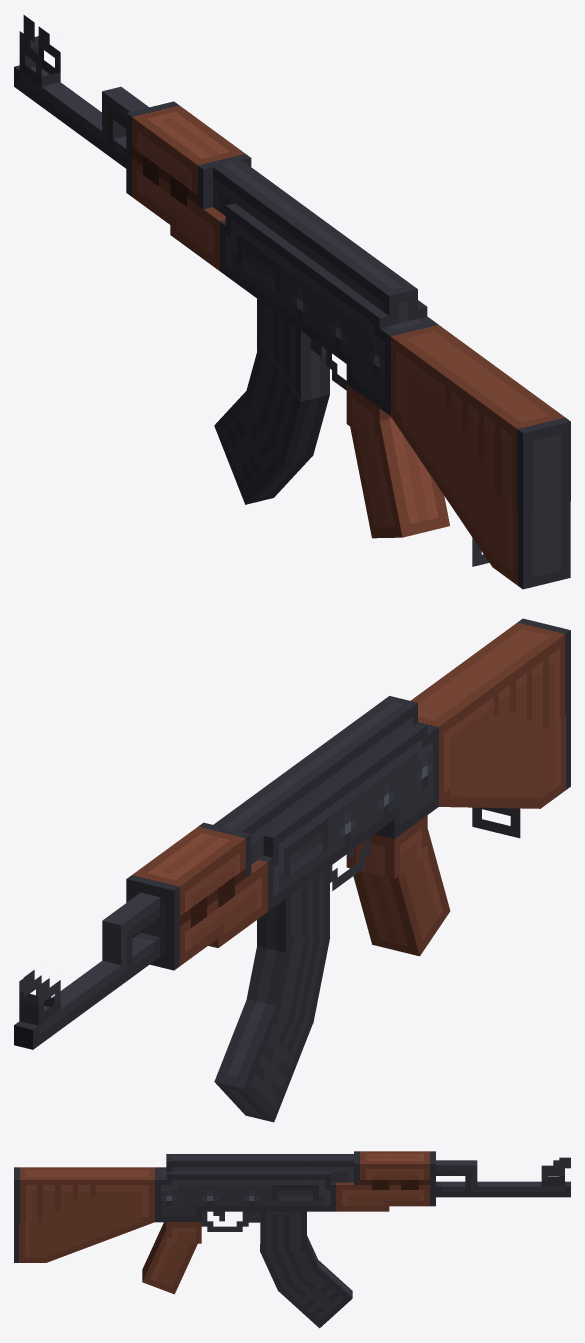
3 renders of one model, top to bottom at view 1: azimuth 30°, elevation 25°; view 2: azimuth 150°, elevation 25°; view 3: azimuth 270°, elevation 25°, orthographic. The views are drawn at different scales.
Visible parts, largest first — view 1: cube (×16); view 2: cube (×19); view 3: cube (×18).
Part boxes in pixels (box(x1,y1,x2,y2)): cube (×16): box(14, 31, 570, 589); cube (×19): box(14, 618, 570, 1122); cube (×18): box(14, 1151, 570, 1328).
Bounding box in the file's own units: 0.1575 × 0.9832 × 2.97.
1 material, 1 textured.
